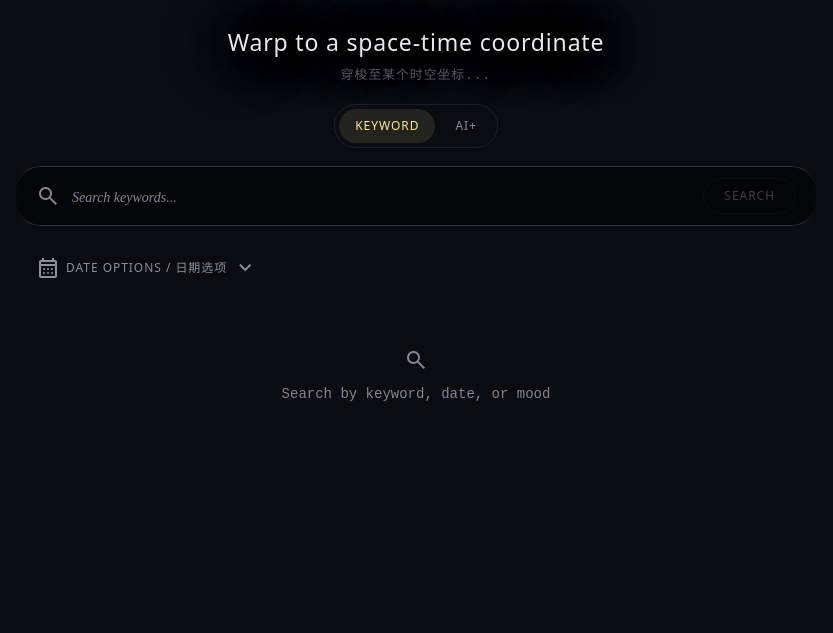
it: Recall › pins the recall controls while the results pane owns hidden scrolling
The width and height of the screenshot is (833, 633).
Click the tab with test id "tab-agent".
click(466, 126)  # box 439,109 -> 493,143
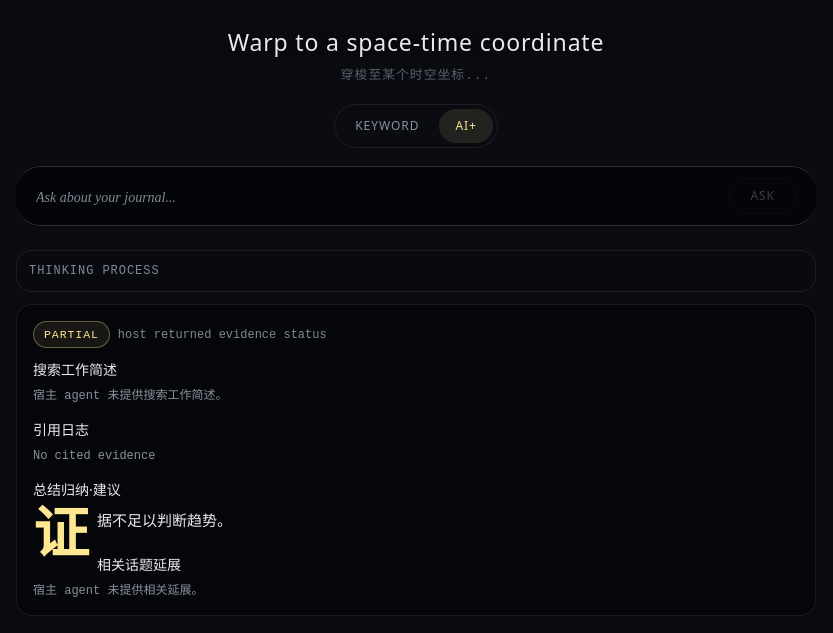
Now the element with test id "agent-conversation-thread" is shown, box 16,238 -> 816,617
